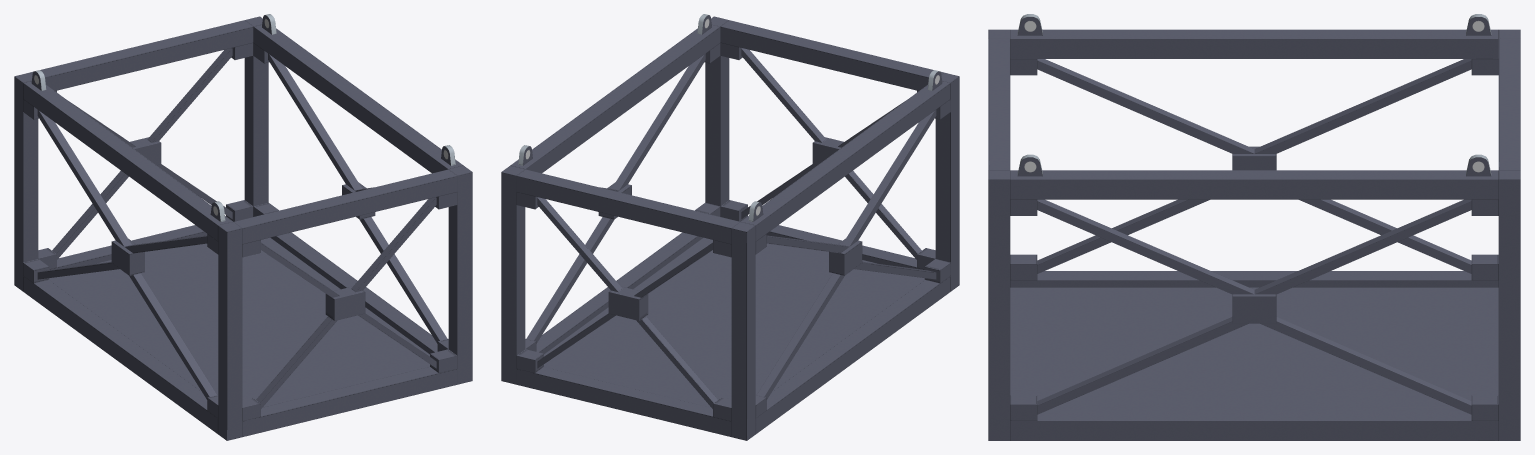
Rendered from Container_01.FBX.
3 views of the same model, side by side, from view 1: azimuth 30°, elevation 25°; view 2: azimuth 150°, elevation 25°; view 3: azimuth 270°, elevation 25° (orthographic). The views are drawn at different scales.
Visible parts, largest first — view 1: Container_01; view 2: Container_01; view 3: Container_01.
Boxes of the visible parts, x1=… form: Container_01: x1=14, y1=14, x2=472, y2=440; Container_01: x1=501, y1=14, x2=959, y2=440; Container_01: x1=988, y1=14, x2=1520, y2=440.
Bounding box in the file's own units: 4 × 3.49 × 6.
